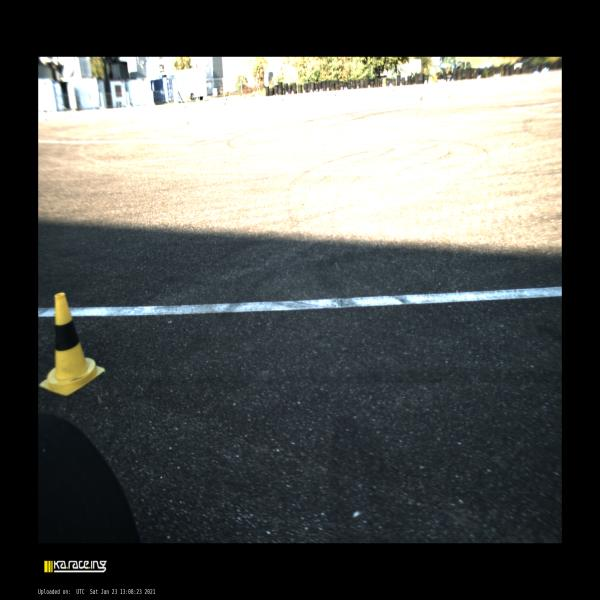yellow_cone: (38, 292, 105, 396)
